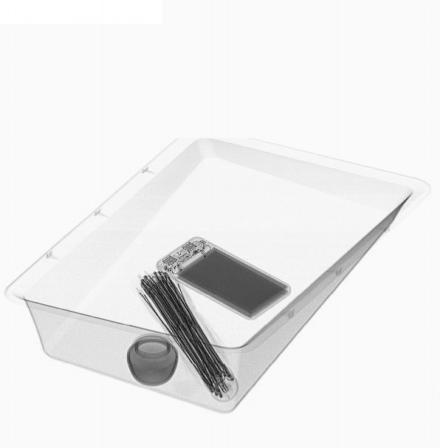Powerbank: (151, 234, 293, 323)
